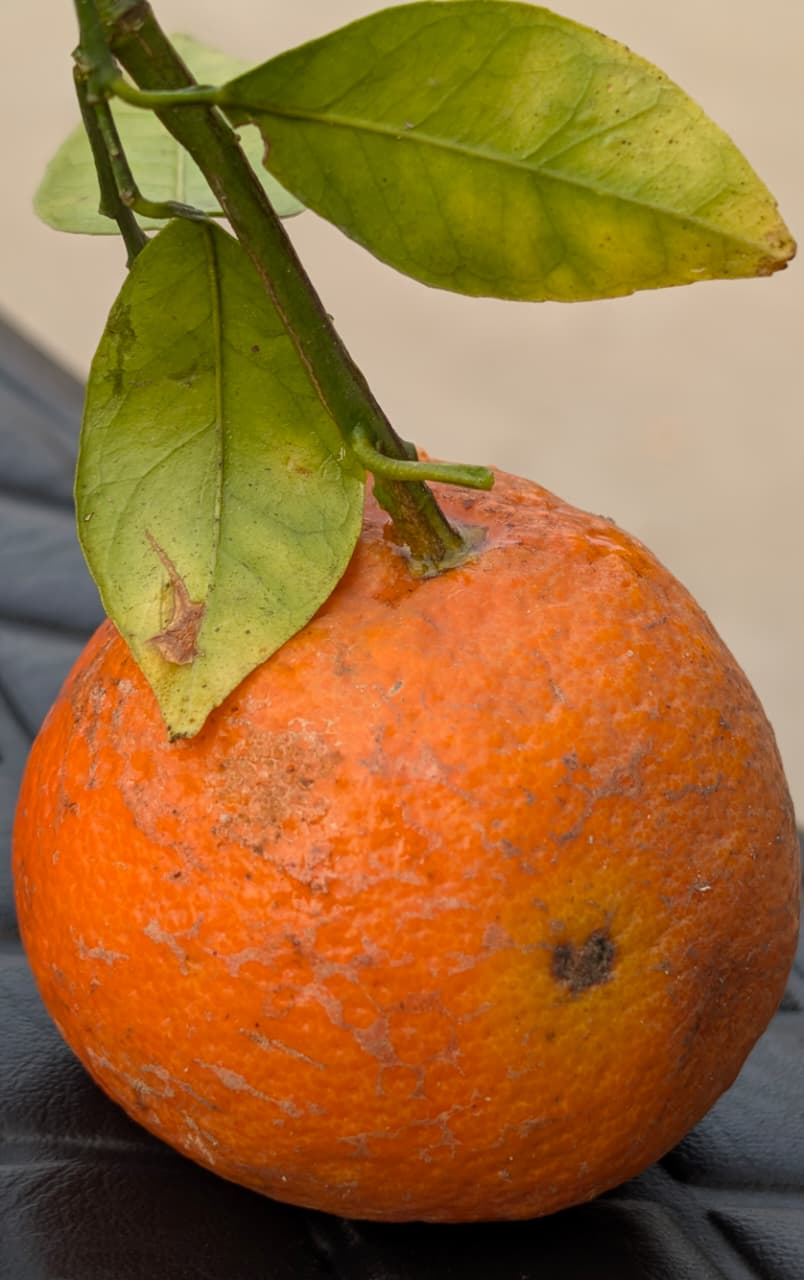orange: (106, 130, 624, 1189)
